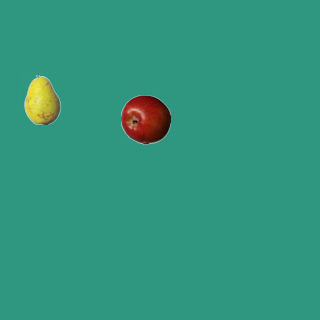Apple Braeburn: (120, 94, 170, 144)
Pear Monster: (17, 74, 67, 124)
